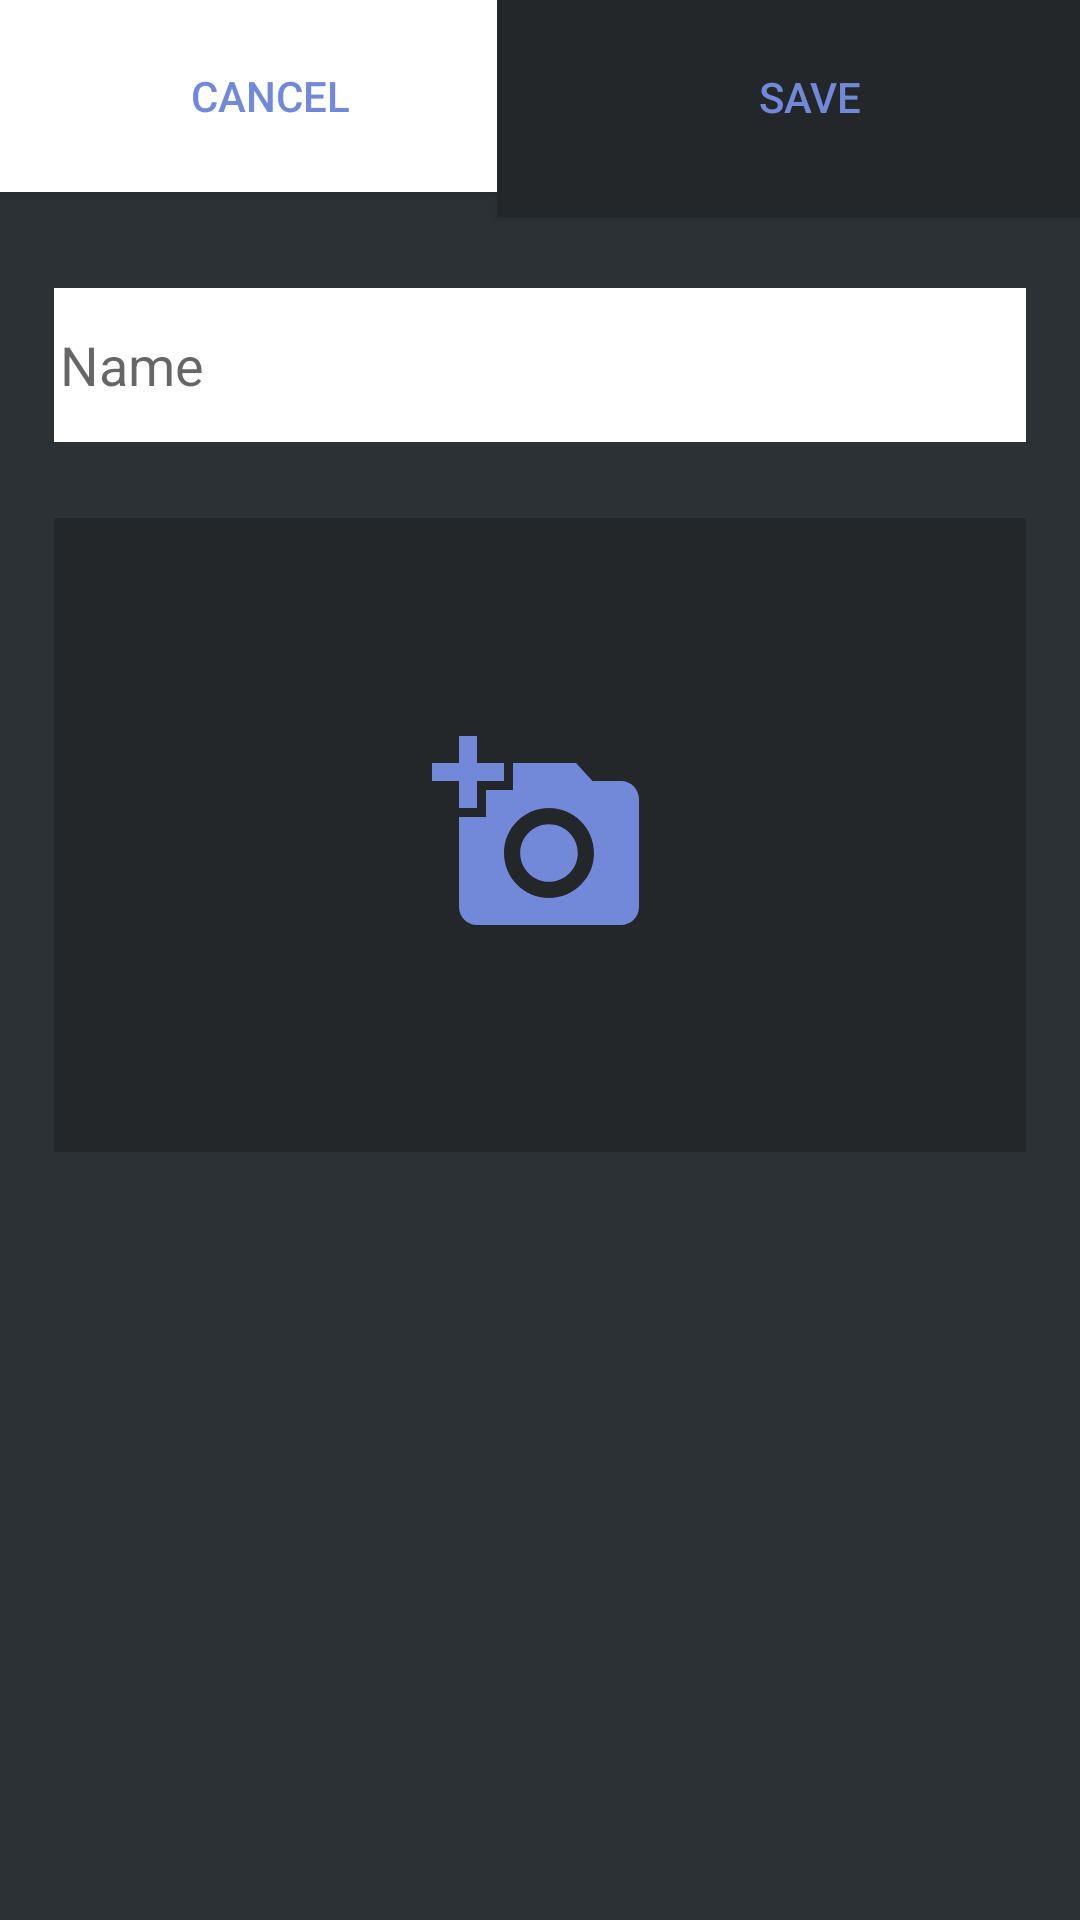

Icon click points for this 1080px x 1920px phone screenshot, format (x,y):
add photo: (535,830)
